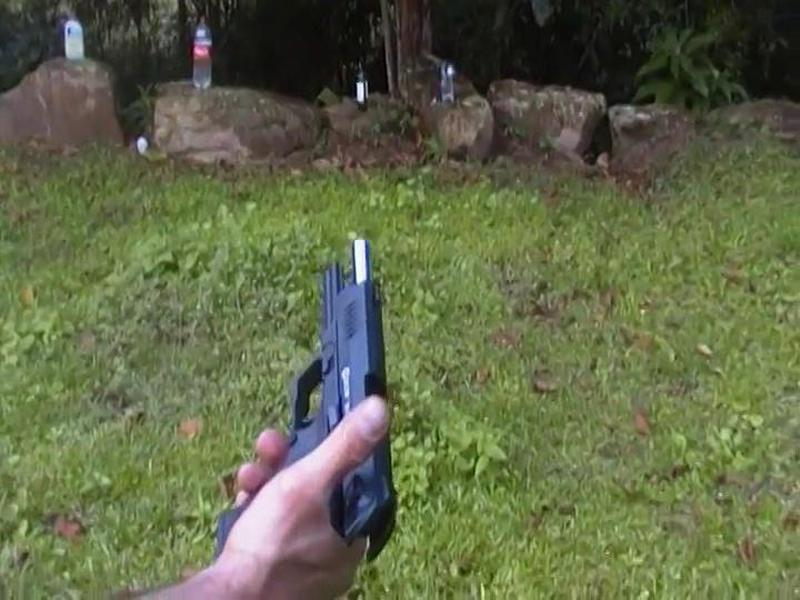Pistola: (214, 228, 391, 572)
